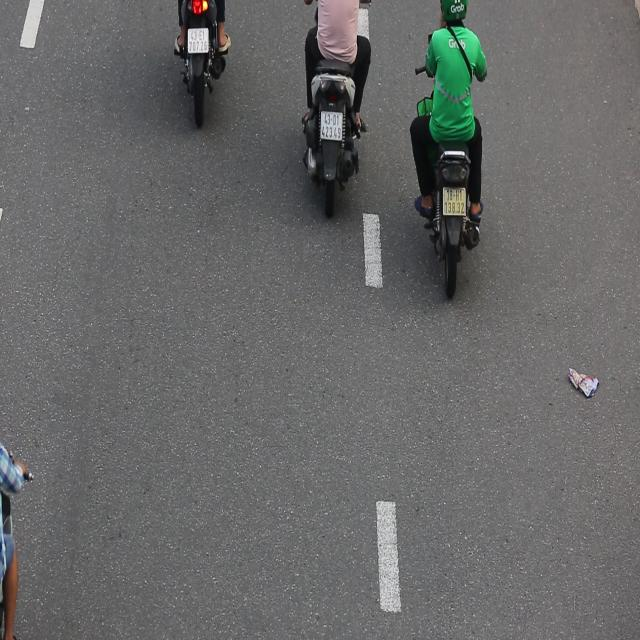motorbike: (407, 0, 491, 305)
